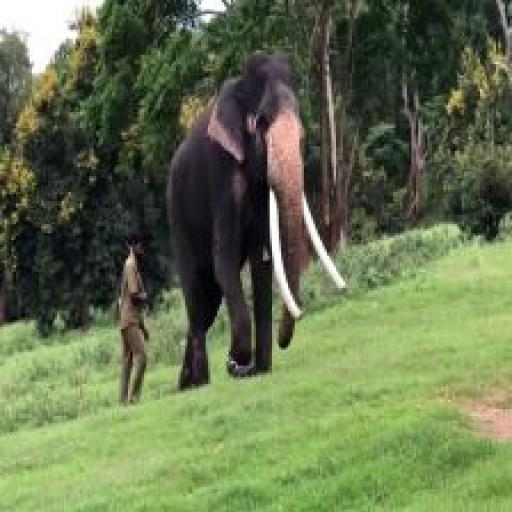Elephant: (160, 41, 358, 405)
